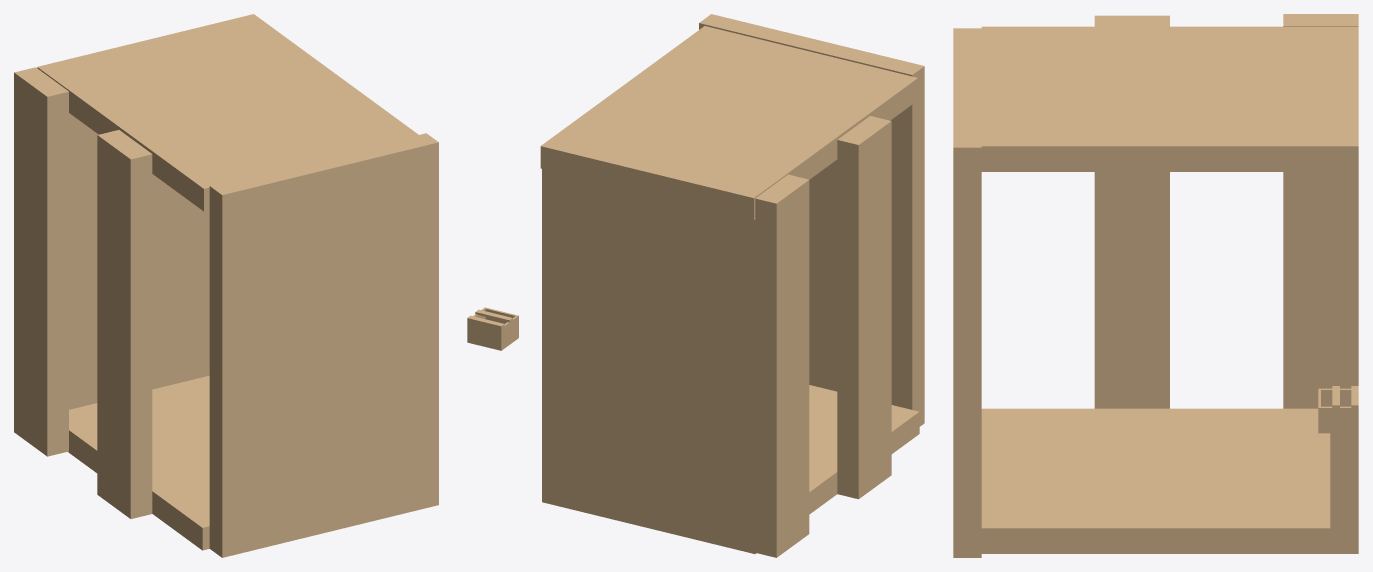
The model's file is tinker.obj.
3 renders of one model, left to right at view 1: azimuth 30°, elevation 25°; view 2: azimuth 150°, elevation 25°; view 3: azimuth 270°, elevation 25°, orthographic. The views are drawn at different scales.
Parts seen in each view (by area): view 1: obj_0; view 2: obj_0; view 3: obj_0.
Part boxes in pixels (x1,y1,x2,y2): obj_0: (14, 14, 438, 557); obj_0: (467, 14, 924, 557); obj_0: (953, 14, 1358, 557).
Size of the model in its own units: 218 by 240 by 215.
